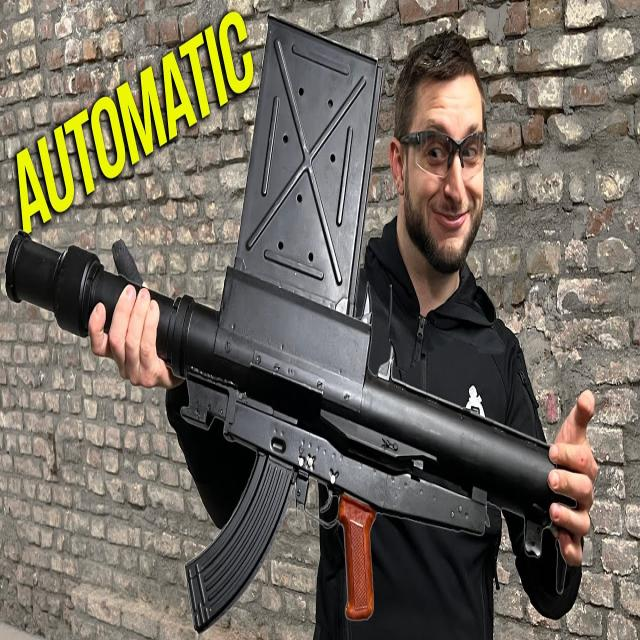Weapon: (6, 223, 593, 614)
